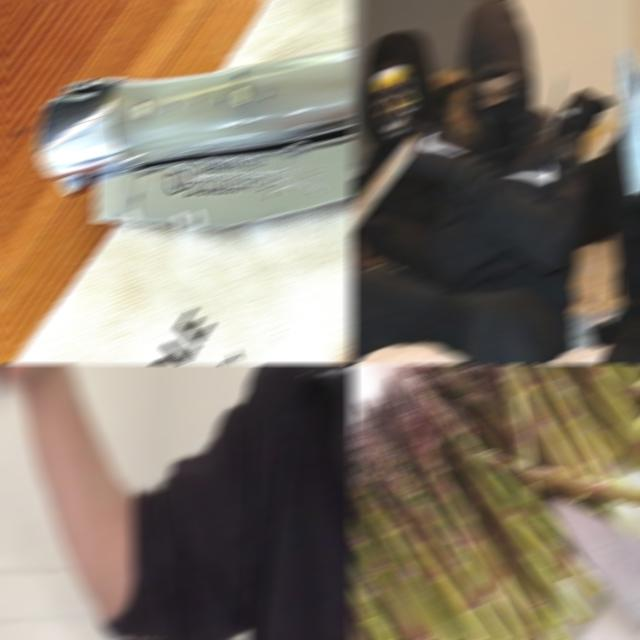Knife_Handle: (350, 130, 422, 269), (518, 69, 567, 196), (616, 48, 640, 274)
